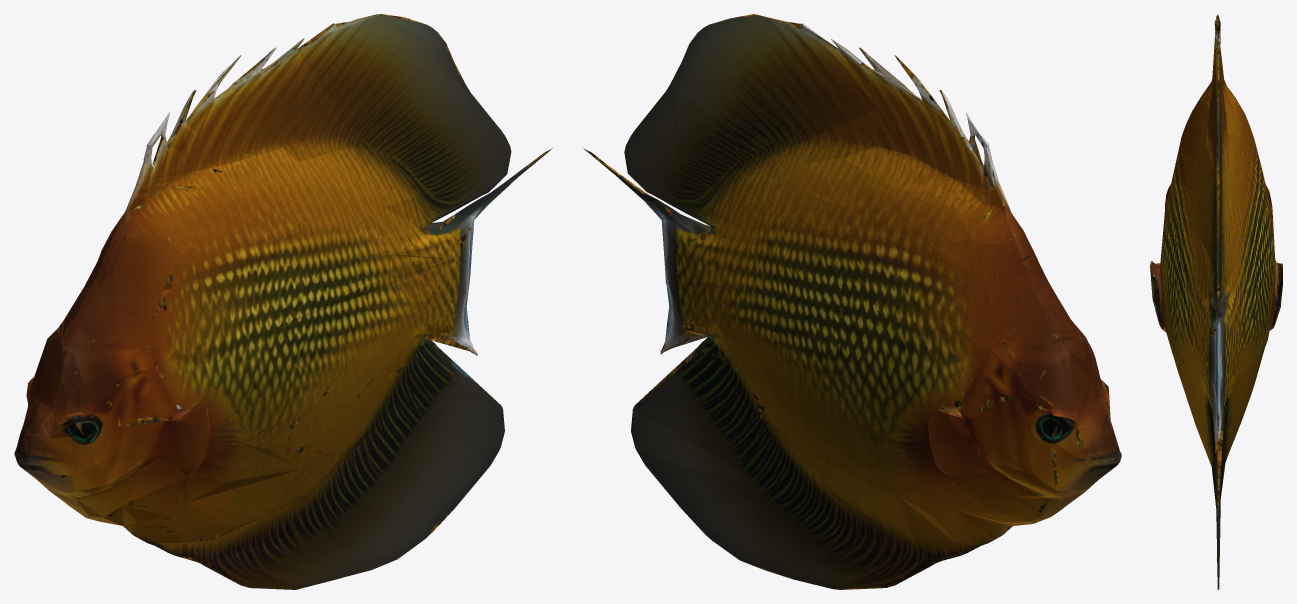
The model's file is fish_0058_smpl23_resized.glb.
The picture shows the model from 3 angles, left to right: view 1: azimuth 30°, elevation 25°; view 2: azimuth 150°, elevation 25°; view 3: azimuth 270°, elevation 25°; orthographic projection. The views are drawn at different scales.
Parts seen in each view (by area): view 1: world; view 2: world; view 3: world.
Boxes of the visible parts, <box> form: world: <box>14,14,552,589</box>; world: <box>583,14,1121,589</box>; world: <box>1150,14,1282,589</box>.
Size of the model in its own units: 1.99 by 1.98 by 0.4602.
Materials: 1 (1 with a texture image).
